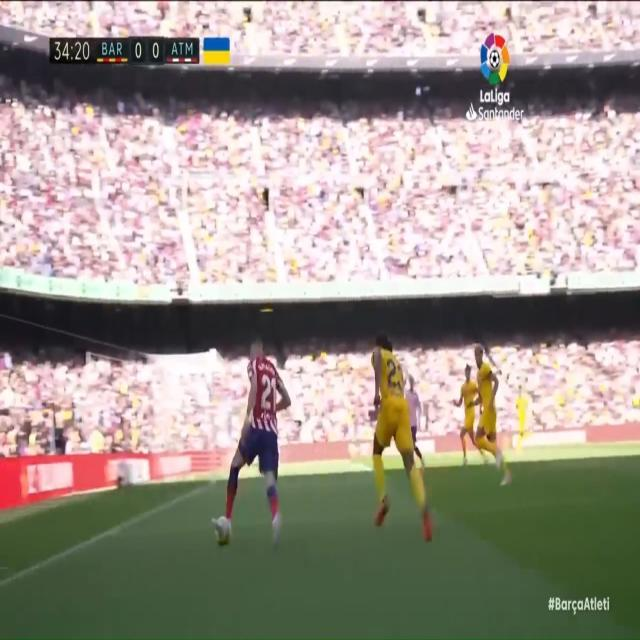ball: (214, 505, 234, 558)
player: (206, 315, 290, 571), (354, 323, 438, 562), (471, 319, 507, 490), (451, 355, 478, 466)
